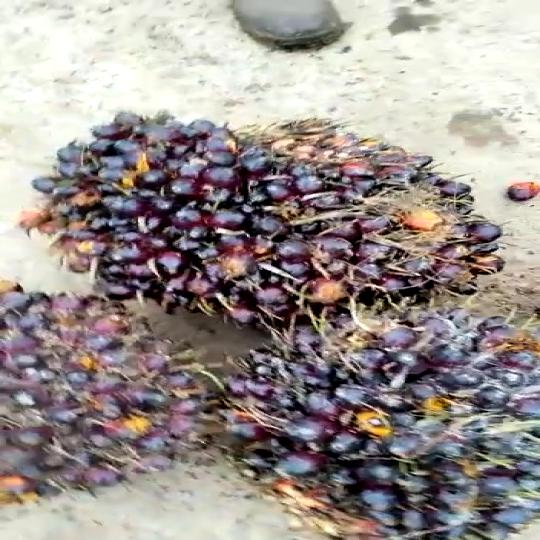kurang masak: (44, 107, 497, 320), (195, 327, 540, 540), (0, 275, 226, 502)
